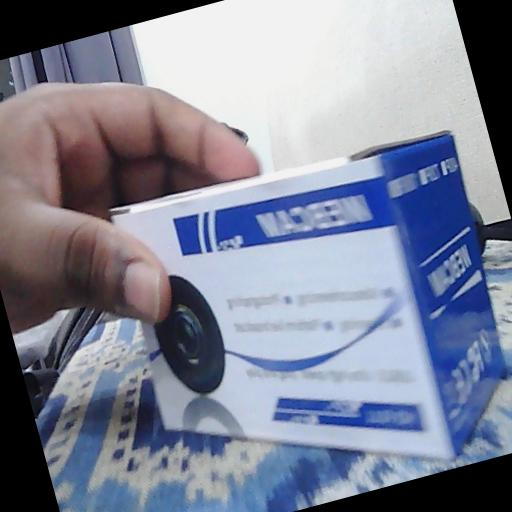webcam_box: (101, 117, 512, 512)
